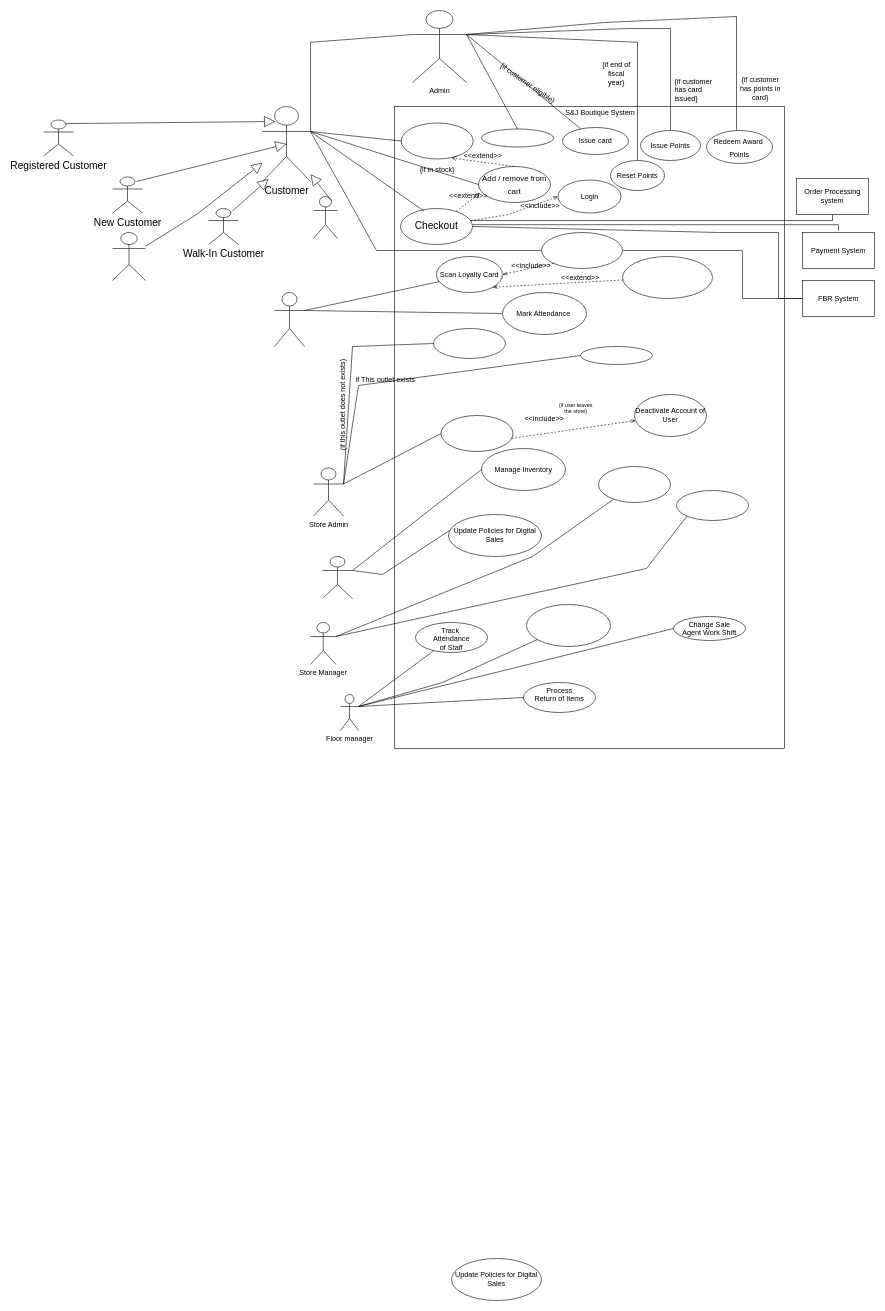
The diagram is 885 pixels wide and 1311 high, and some of its shapes have lost their labels. Here are the shapes that lost their labels. From the top down, the box of each, then its label:
(401, 122, 473, 159): Display Collection Online
(481, 128, 554, 147): Offer Discount
(313, 196, 338, 238): Recurring Customer
(112, 232, 146, 280): Annonymous Customer
(541, 232, 622, 268): Point of sale
(622, 256, 712, 298): Display/Update Customer Record
(274, 292, 304, 346): Sales Agent
(433, 328, 506, 358): Create Outlet
(580, 346, 652, 364): Update Outlet
(440, 415, 513, 452): Manage Users and Assign Roles
(598, 466, 670, 502): Run Annual and Monthly Report
(676, 490, 748, 520): Modify Discount Policies
(322, 556, 352, 598): Inventory Manager
(526, 604, 610, 646): Manage Sales Agents
